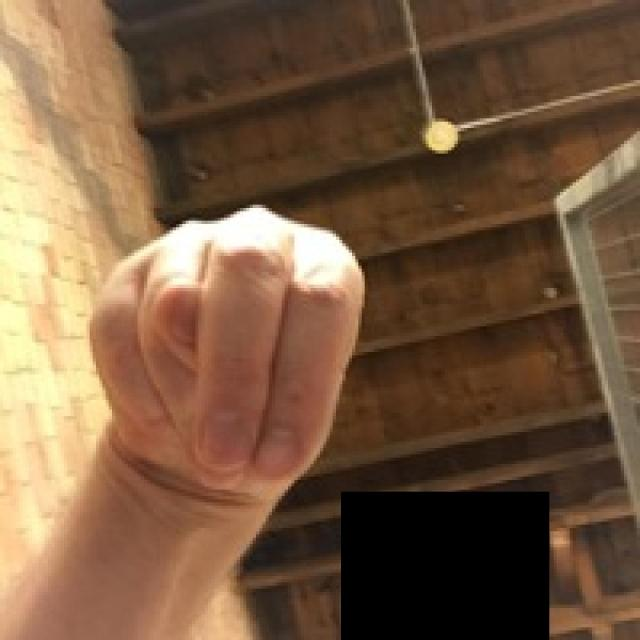N: (49, 192, 382, 479)
